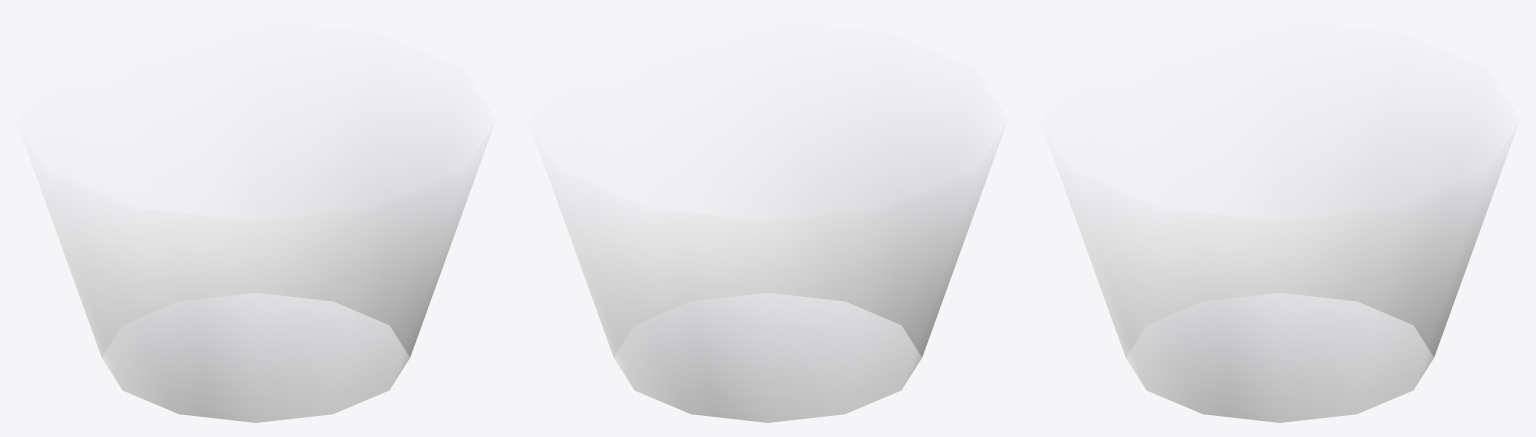
3 views of the same model, side by side, from view 1: azimuth 30°, elevation 25°; view 2: azimuth 150°, elevation 25°; view 3: azimuth 270°, elevation 25° (orthographic).
Visible parts, largest first — view 1: pCylinder7; view 2: pCylinder7; view 3: pCylinder7.
Boxes of the visible parts, <box> form: pCylinder7: <box>30,108,481,422</box>; pCylinder7: <box>542,108,993,422</box>; pCylinder7: <box>1054,108,1505,422</box>.
Size of the model in its own units: 70.77 by 39.08 by 70.77.
1 material, 1 textured.
